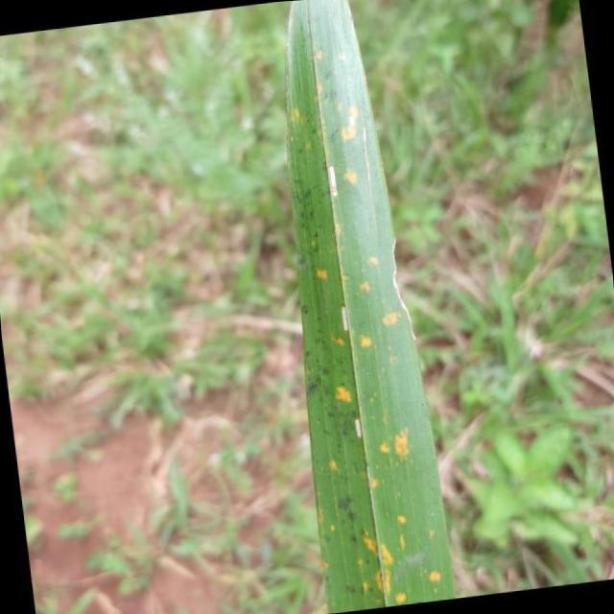Kalium: (286, 0, 456, 609)
